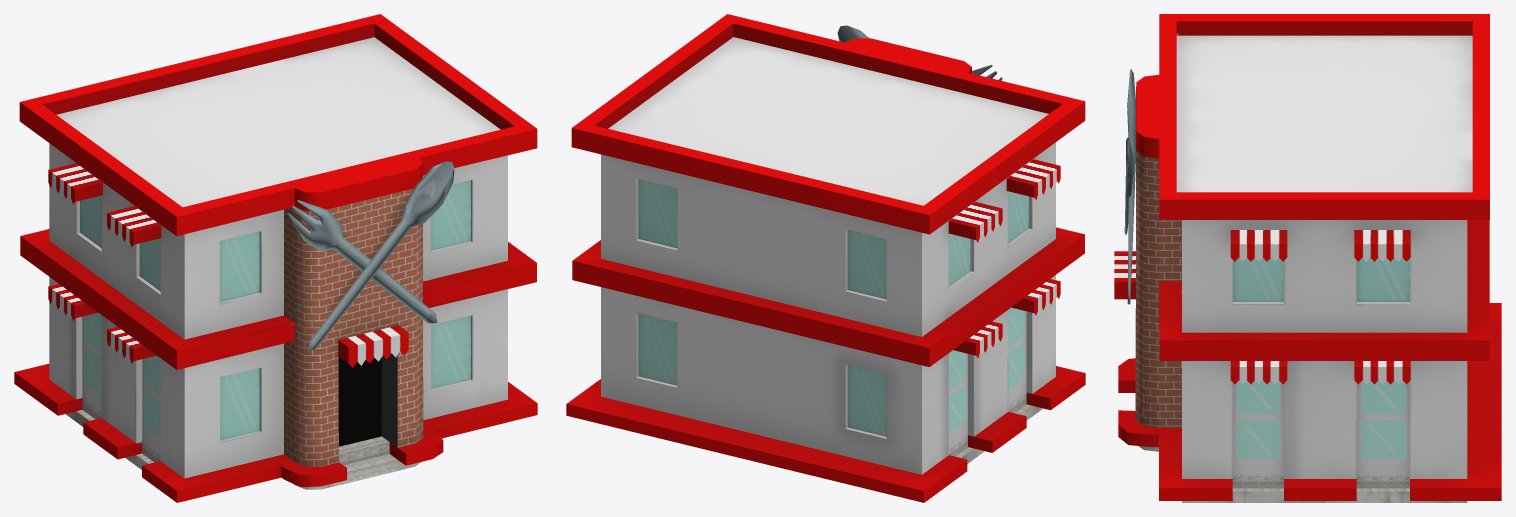
File: restaurant.fbx
3 views of the same model, side by side, from view 1: azimuth 30°, elevation 25°; view 2: azimuth 150°, elevation 25°; view 3: azimuth 270°, elevation 25° (orthographic). The views are drawn at different scales.
Parts seen in each view (by area): view 1: restaurant; view 2: restaurant; view 3: restaurant.
Part boxes in pixels (box(x1,y1,x2,y2)): restaurant: box(14, 14, 537, 502); restaurant: box(566, 14, 1085, 502); restaurant: box(1114, 14, 1501, 502).
Bounding box in the file's own units: 6.46 × 4.9 × 5.43.
